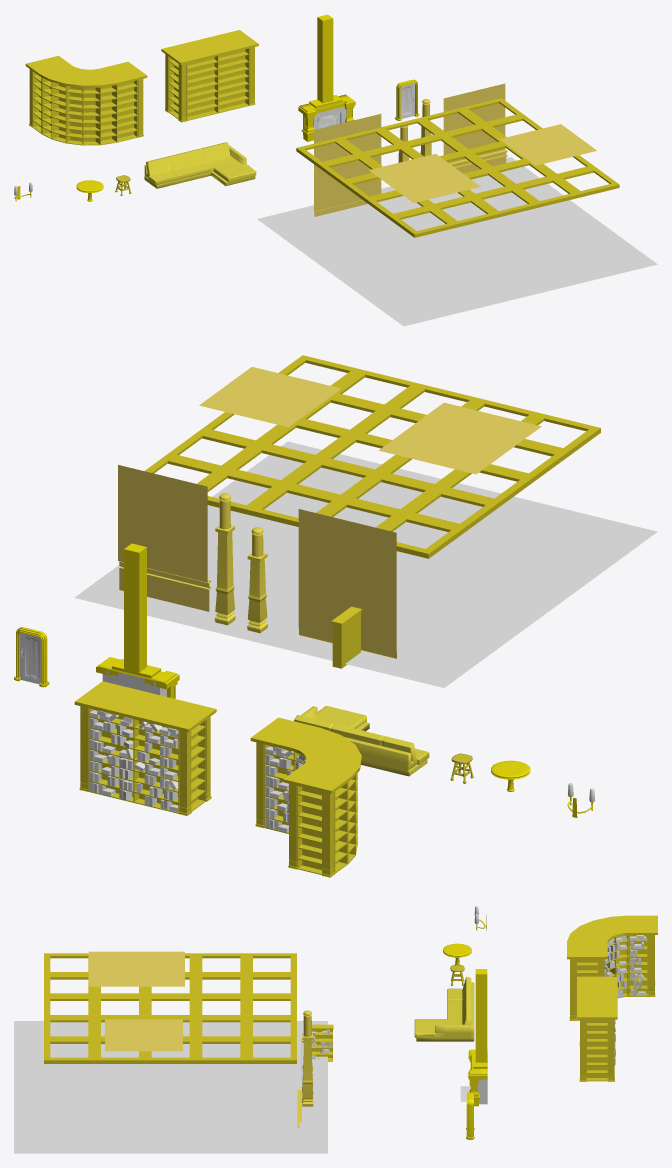
The model's file is ManorRoomAssets.fbx.
The picture shows the model from 3 angles, top to bottom: view 1: azimuth 30°, elevation 25°; view 2: azimuth 150°, elevation 25°; view 3: azimuth 270°, elevation 25°; orthographic projection. The views are drawn at different scales.
Parts seen in each view (by area): view 1: Floor, RoofTiles, BookShelfDiagonal, BookShelfStraight, WallVariant2, Couch, WallVariant1, RoofVariant2, FireFrame, RoofVariant1, Door.001; view 2: Floor, RoofTiles, BookShelfDiagonal, WallVariant2, BookShelfStraight, WallVariant1, RoofVariant2, RoofVariant1, FireFrame, Couch, LongCollum, ShortCollum (+3 smaller); view 3: Floor, RoofTiles, BookShelfDiagonal, BookShelfStraight, RoofVariant2, RoofVariant1, Couch, FireFrame, LongCollum, BookShelfSmall, Table, Door.
Boxes of the visible parts, box(x1,y1,x2,y2) form: Floor: box(257, 157, 657, 326); RoofTiles: box(296, 98, 619, 237); BookShelfDiagonal: box(25, 55, 147, 145); BookShelfStraight: box(161, 30, 258, 122); WallVariant2: box(314, 114, 381, 216); Couch: box(144, 142, 256, 188); WallVariant1: box(443, 83, 507, 179); RoofVariant2: box(369, 154, 480, 202); FireFrame: box(298, 14, 355, 141); RoofVariant1: box(499, 124, 596, 165); Door.001: box(400, 83, 414, 118); Floor: box(74, 441, 657, 687); RoofTiles: box(144, 355, 600, 558); BookShelfDiagonal: box(250, 717, 361, 877); WallVariant2: box(298, 509, 396, 658); BookShelfStraight: box(74, 681, 216, 815); WallVariant1: box(118, 465, 210, 611); RoofVariant2: box(378, 402, 541, 474); RoofVariant1: box(199, 367, 340, 427); FireFrame: box(96, 543, 179, 698); Couch: box(293, 706, 429, 776); LongCollum: box(214, 493, 235, 625); ShortCollum: box(247, 527, 268, 633); Floor: box(14, 1021, 327, 1153); RoofTiles: box(44, 953, 296, 1063); BookShelfDiagonal: box(567, 915, 657, 1020); BookShelfStraight: box(577, 976, 617, 1081); RoofVariant2: box(88, 951, 184, 986); RoofVariant1: box(105, 1019, 182, 1051); Couch: box(414, 976, 474, 1041); FireFrame: box(468, 969, 487, 1106); LongCollum: box(302, 1010, 313, 1106); BookShelfSmall: box(311, 1024, 333, 1061); Table: box(443, 943, 471, 964); Door: box(466, 1092, 474, 1139).
Bounding box in the file's own units: 2899 × 754 × 3539.
